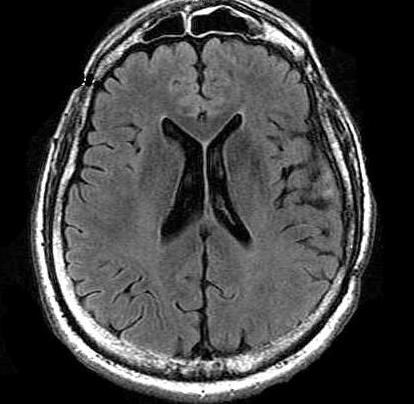Normal_Brain: (7, 1, 405, 404)
